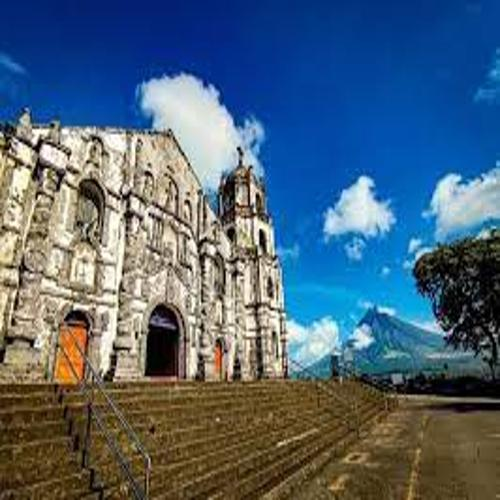Daraga Church: (18, 102, 291, 388)
